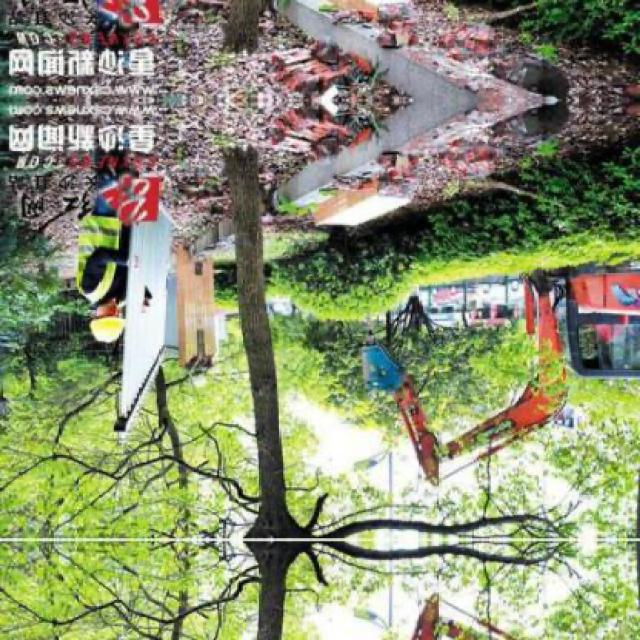con casco: (78, 278, 143, 344)
